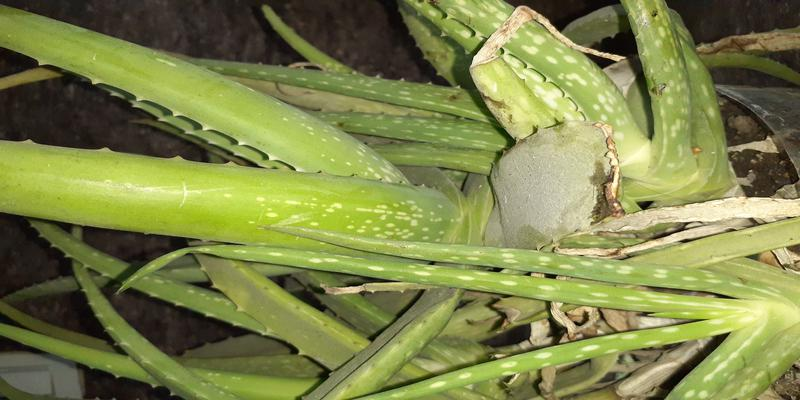Aloevera: (115, 23, 729, 385)
